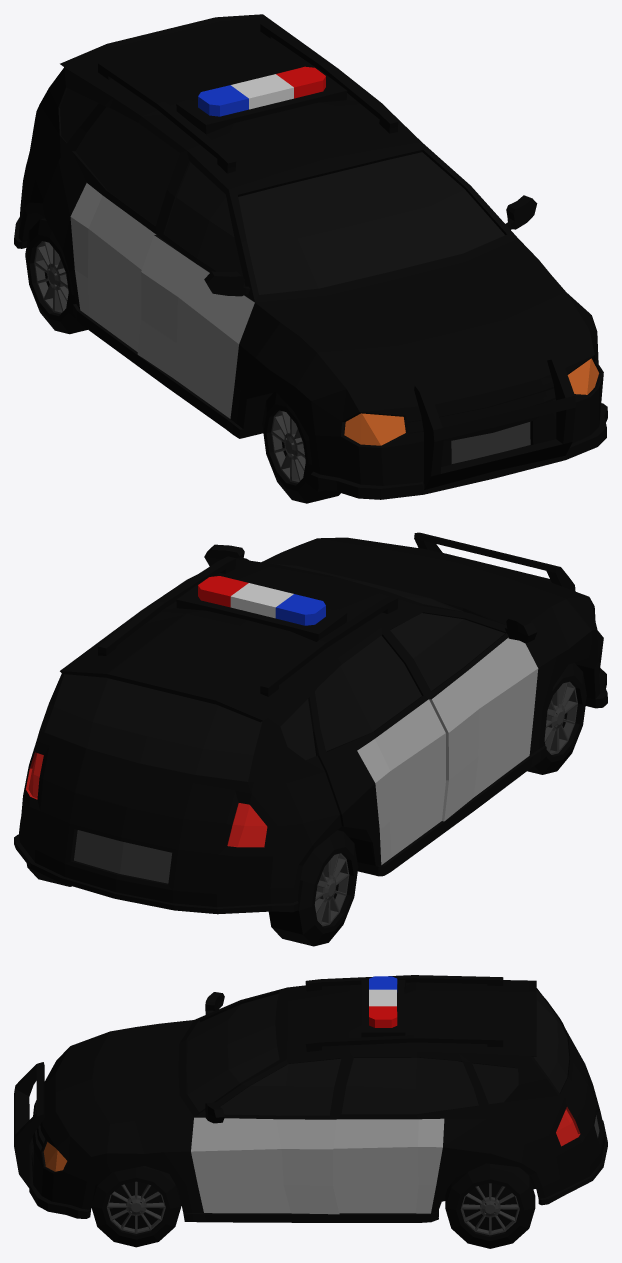
Rendered from car_Cop_SUV.glb.
3 views of the same model, one above another, from view 1: azimuth 30°, elevation 25°; view 2: azimuth 150°, elevation 25°; view 3: azimuth 270°, elevation 25° (orthographic). The views are drawn at different scales.
Parts seen in each view (by area): view 1: Cop_SUV, Cop_SUV_FrontRightWheel, Cop__SUV_BackWheels; view 2: Cop_SUV, Cop__SUV_BackWheels, Cop_SUV_FrontRightWheel; view 3: Cop_SUV, Cop__SUV_BackWheels, Cop_SUV_FrontLeftWheel.
Boxes of the visible parts, x1,y1,x2,y2 form: Cop_SUV: (14,14,607,499); Cop_SUV_FrontRightWheel: (262,391,340,503); Cop__SUV_BackWheels: (25,218,87,334); Cop_SUV: (14,532,607,914); Cop__SUV_BackWheels: (26,830,358,946); Cop_SUV_FrontRightWheel: (527,663,586,774); Cop_SUV: (14,975,607,1222); Cop__SUV_BackWheels: (445,1163,535,1248); Cop_SUV_FrontLeftWheel: (91,1166,181,1247).
Size of the model in its own units: 2.39 by 1.82 by 4.9.
1 material, 1 textured.
